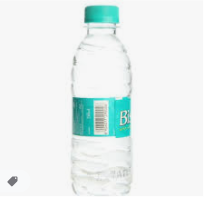Bottle: (73, 4, 134, 197)
